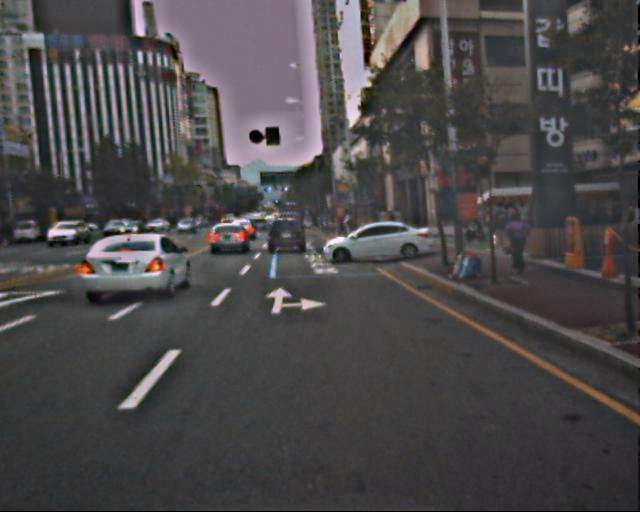person: (504, 208, 532, 276), (493, 198, 517, 258)
